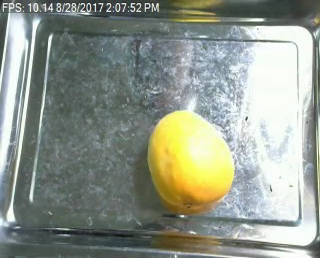Mango: (143, 108, 233, 207)
